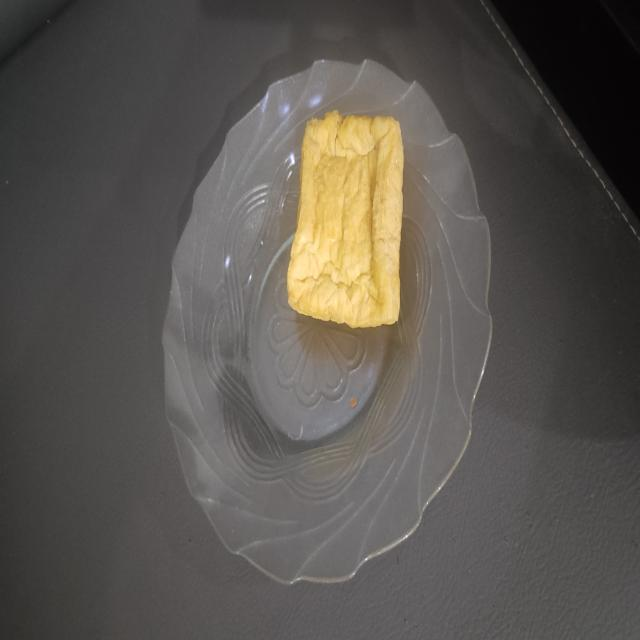tahu_goreng: (287, 111, 403, 328)
